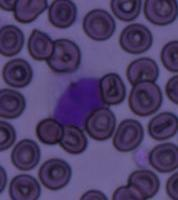M: (48, 71, 104, 128)
